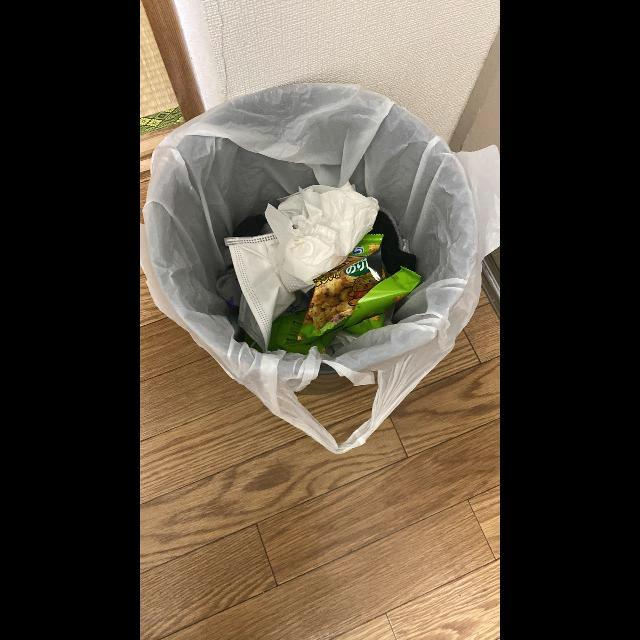food_wrapper: (268, 234, 422, 355)
paper: (265, 182, 380, 293)
